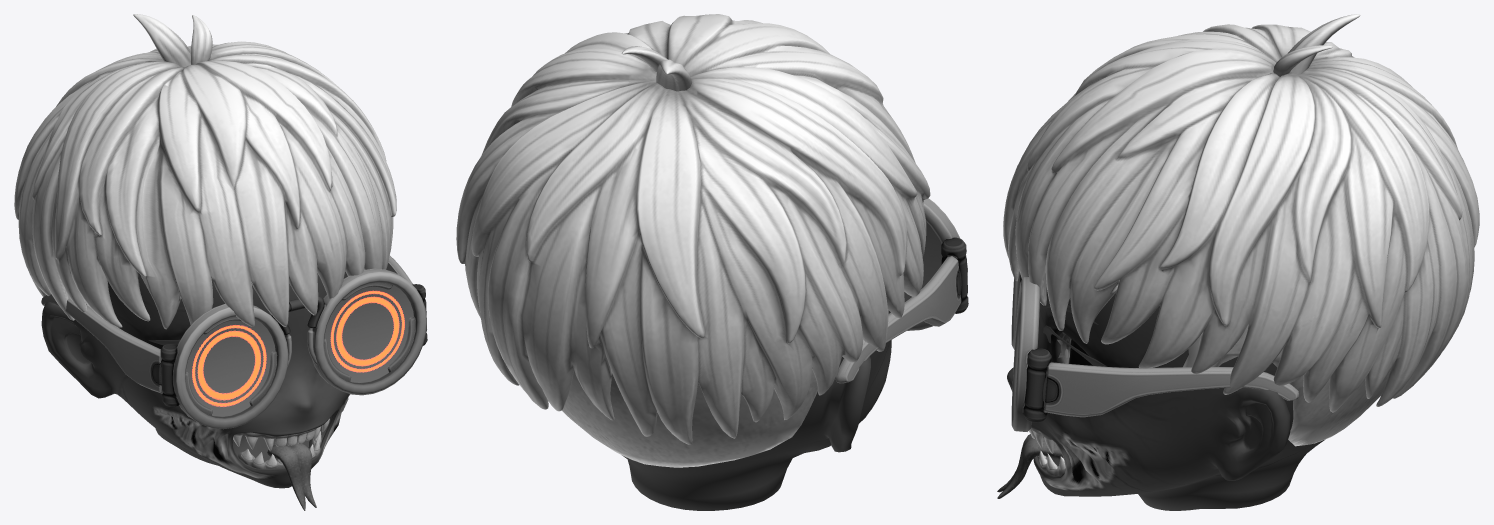
File: io_headonly6_compressed.glb
3 views of the same model, side by side, from view 1: azimuth 30°, elevation 25°; view 2: azimuth 150°, elevation 25°; view 3: azimuth 270°, elevation 25° (orthographic). The views are drawn at different scales.
Parts seen in each view (by area): view 1: head.001; view 2: head.001; view 3: head.001.
Boxes of the visible parts, x1,y1,x2,y2 form: head.001: [14, 14, 427, 510]; head.001: [456, 14, 968, 510]; head.001: [997, 14, 1479, 510].
Size of the model in its own units: 0.2436 by 0.2868 by 0.2667.
7 materials, 7 textured.
